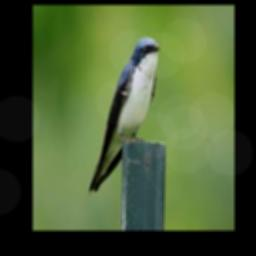Swallow: (88, 37, 161, 192)
